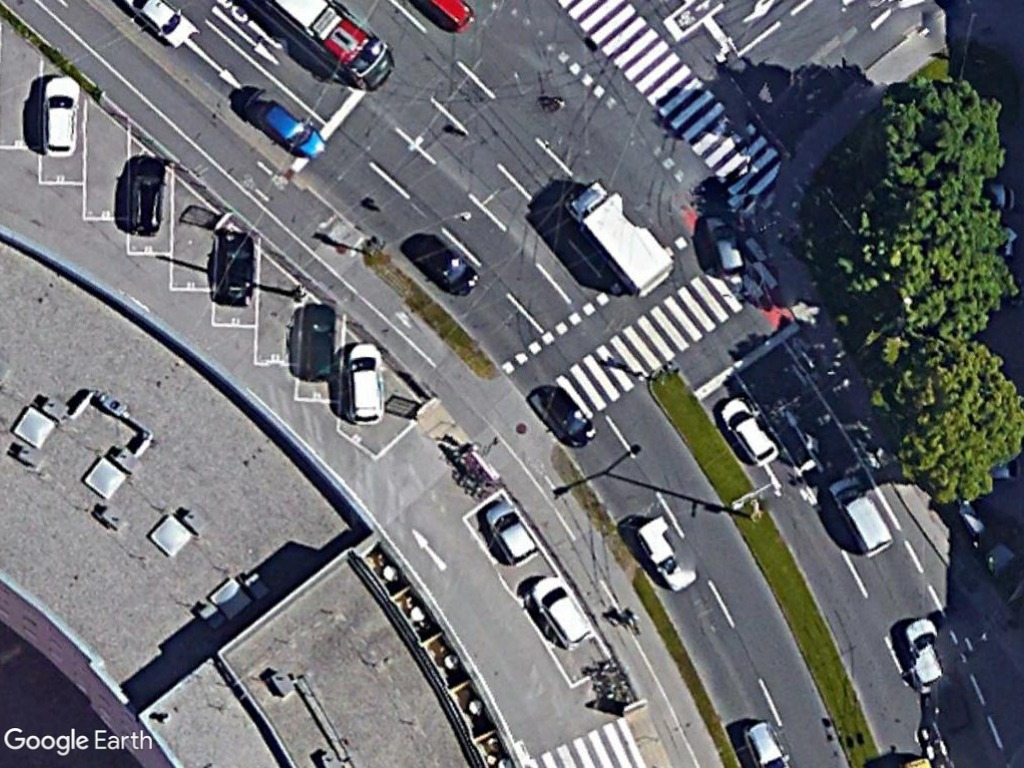car: (525, 570, 597, 653), (252, 92, 332, 166), (710, 391, 783, 472), (338, 331, 386, 431), (36, 71, 85, 162), (480, 499, 542, 570)
truck: (565, 178, 681, 301)
van: (818, 469, 894, 562)
